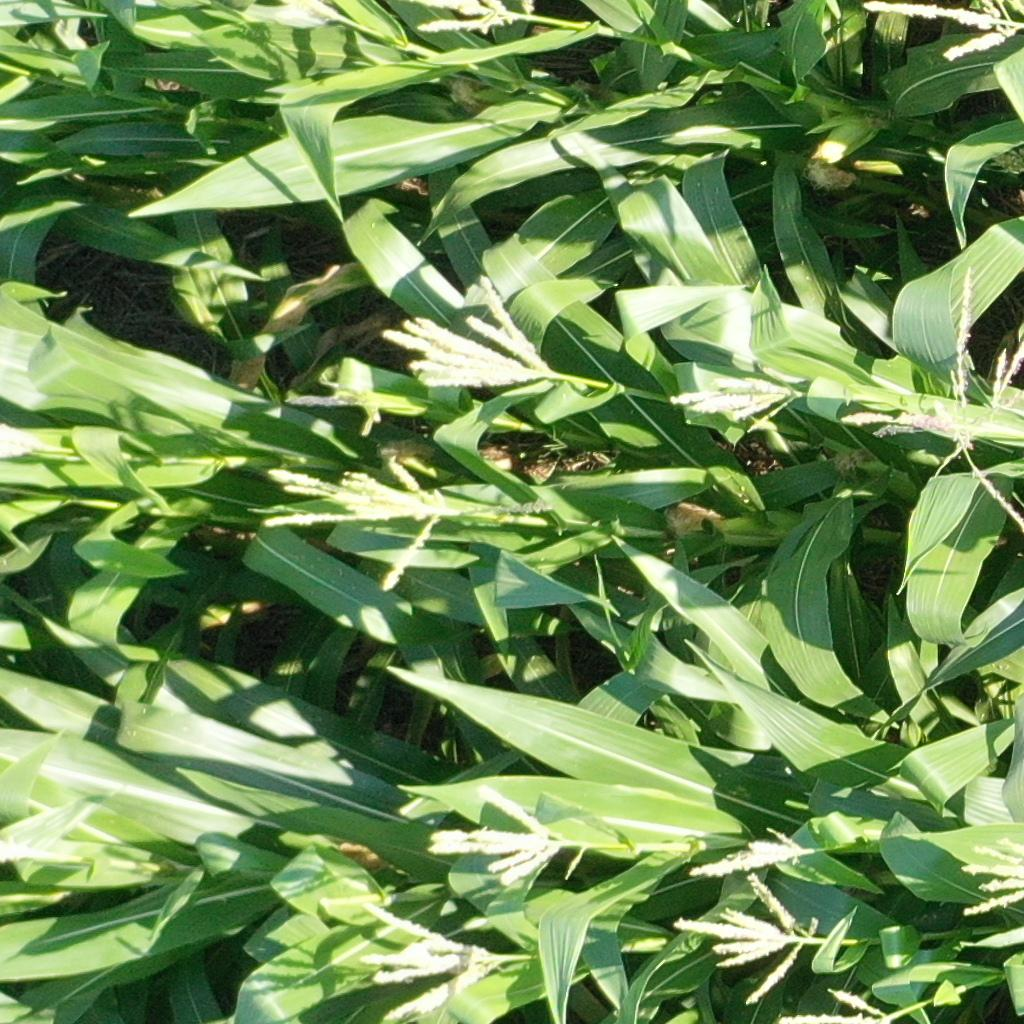Tassel: (840, 263, 1024, 532), (252, 452, 553, 592), (382, 273, 559, 400), (346, 893, 513, 1024), (669, 867, 808, 1003), (414, 777, 571, 891), (856, 1, 1024, 70), (669, 371, 798, 435), (684, 824, 817, 881), (284, 372, 383, 439), (954, 831, 1024, 920), (776, 975, 893, 1024), (416, 1, 524, 40), (1, 419, 51, 461), (274, 1, 338, 24), (1, 839, 53, 865)
